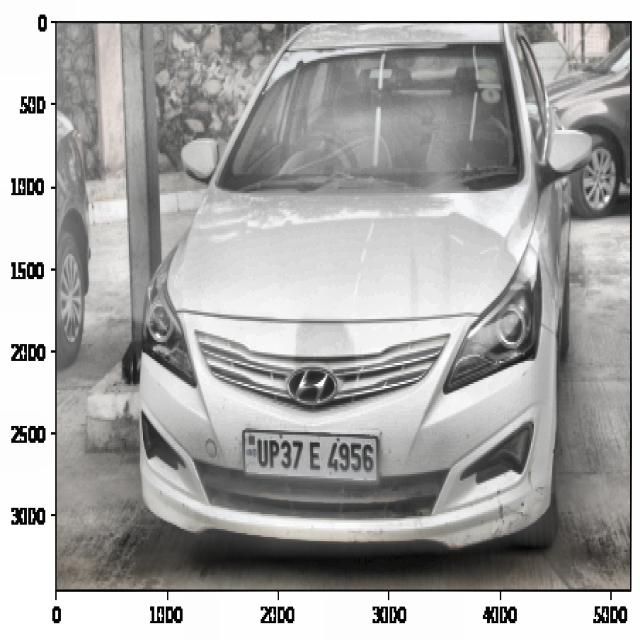license_plate: (253, 430, 377, 479)
